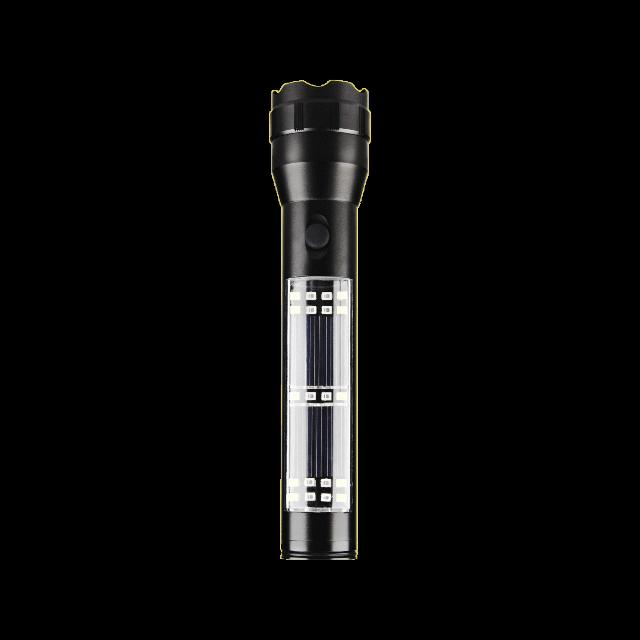Flashlight: (258, 72, 382, 570)
